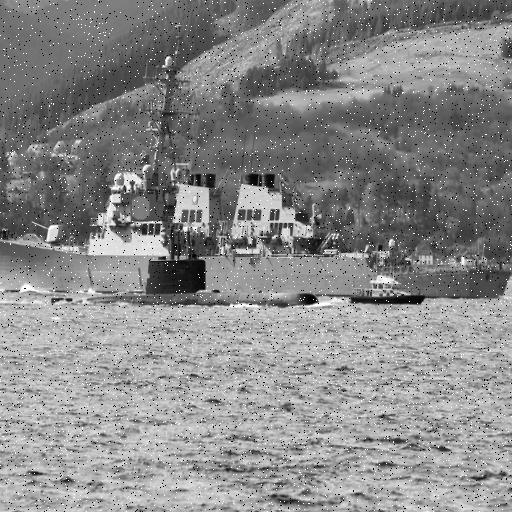submarine: (55, 263, 322, 307)
